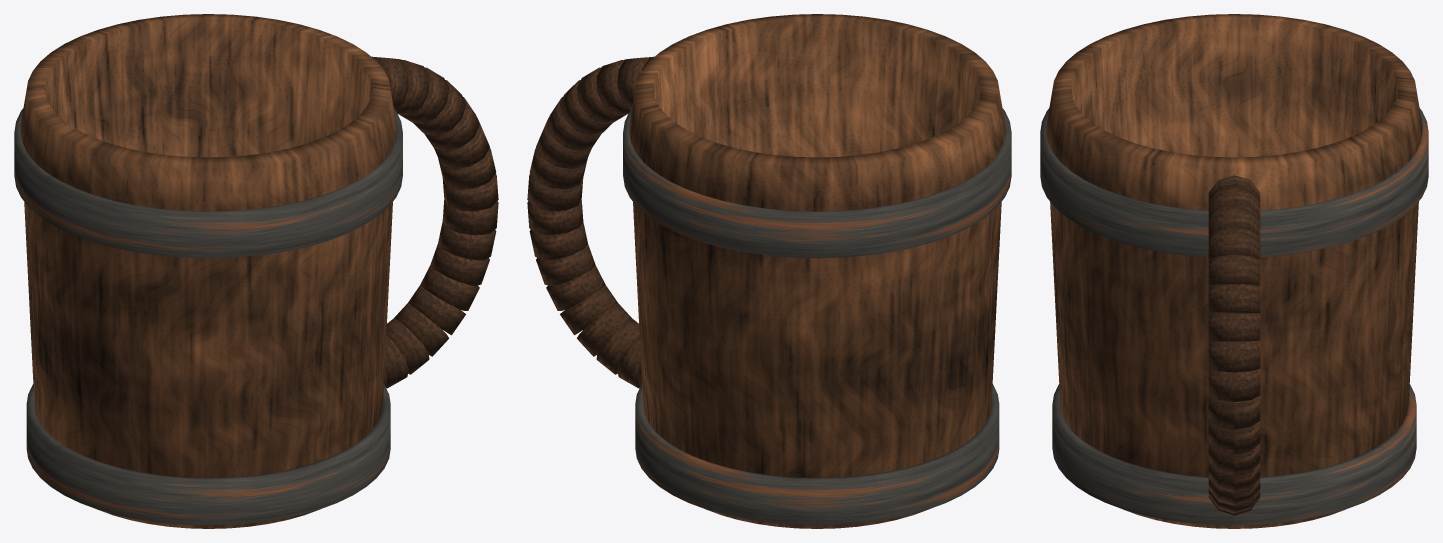
The model's file is tankard_wood.glb.
3 views of the same model, side by side, from view 1: azimuth 30°, elevation 25°; view 2: azimuth 150°, elevation 25°; view 3: azimuth 270°, elevation 25° (orthographic).
Parts seen in each view (by area): view 1: oak, iron, oak_dark; view 2: oak, iron, oak_dark; view 3: oak, iron, oak_dark.
Part boxes in pixels (x1,y1,x2,y2): oak: [20, 14, 396, 528]; iron: [14, 108, 402, 525]; oak_dark: [371, 56, 498, 388]; oak: [629, 14, 1005, 528]; iron: [623, 108, 1011, 525]; oak_dark: [527, 56, 654, 388]; oak: [1046, 14, 1422, 528]; iron: [1040, 108, 1428, 525]; oak_dark: [1208, 175, 1260, 515].
Size of the model in its own units: 0.173 by 0.136 by 0.128.
3 materials, 3 textured.
